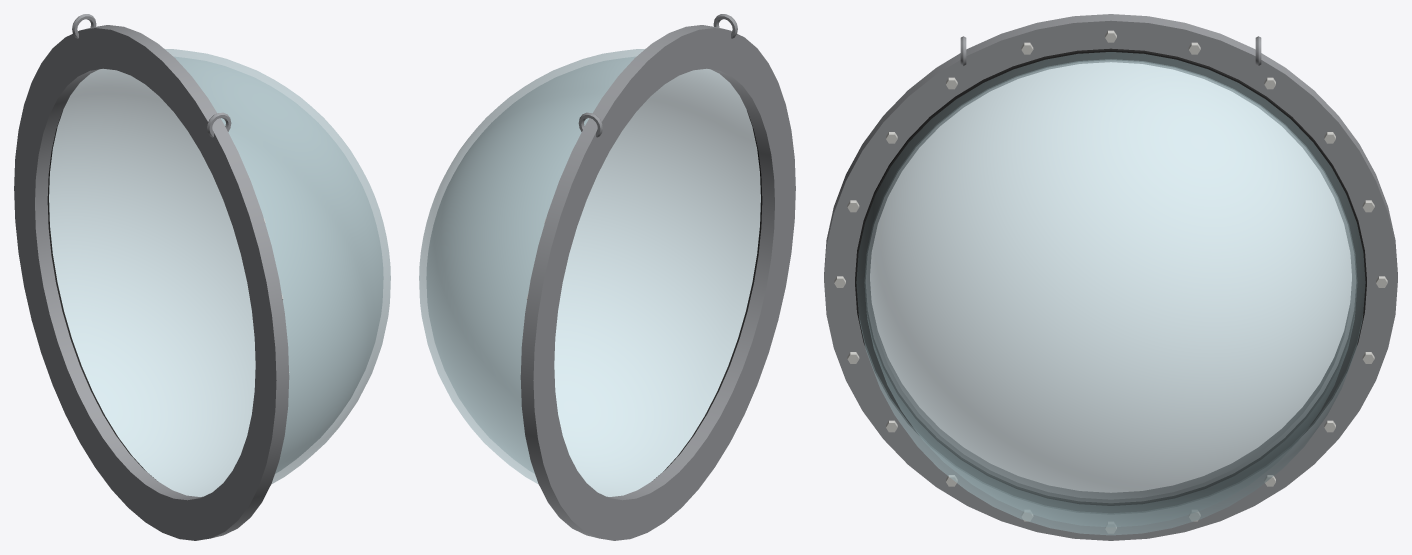
Rendered from SM_DomeGlass.fbx.
3 renders of one model, left to right at view 1: azimuth 30°, elevation 25°; view 2: azimuth 150°, elevation 25°; view 3: azimuth 270°, elevation 25°, orthographic. The views are drawn at different scales.
Parts seen in each view (by area): view 1: SM_DomeGlass; view 2: SM_DomeGlass; view 3: SM_DomeGlass.
Part boxes in pixels (bbox=[...]): SM_DomeGlass: bbox=[14, 14, 390, 540]; SM_DomeGlass: bbox=[419, 14, 795, 540]; SM_DomeGlass: bbox=[824, 14, 1397, 540].
Size of the model in its own units: 1.04 by 2.14 by 2.14.
